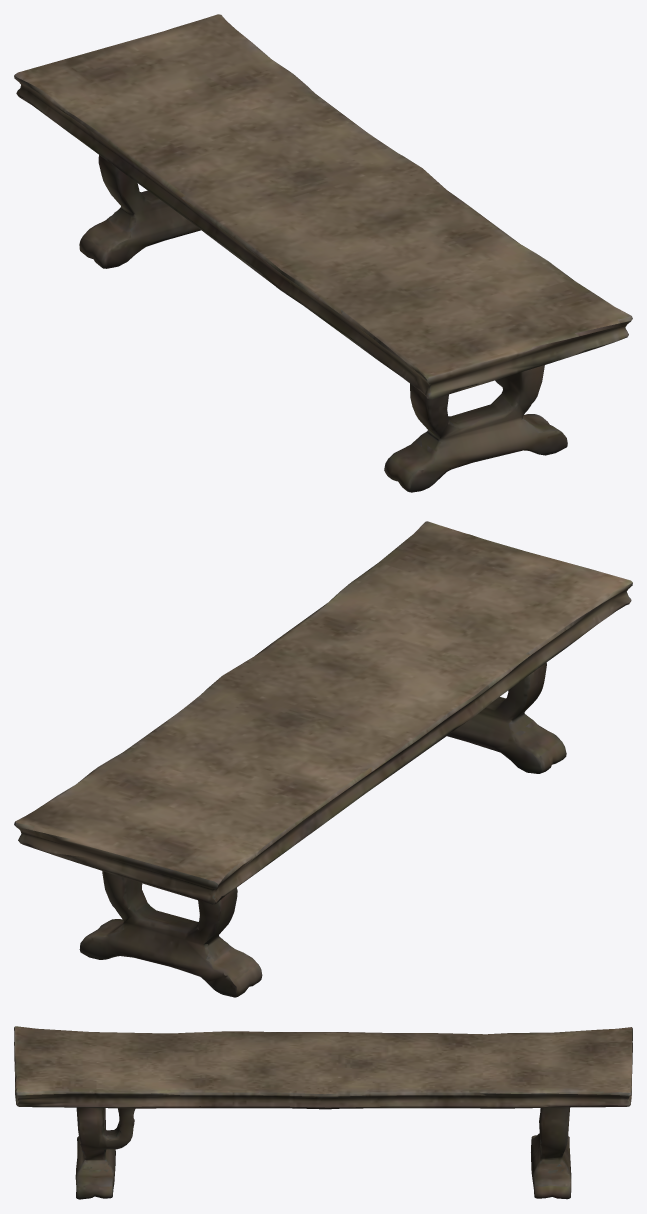
File: ornate-wood-banquet-table-v003.glb
3 renders of one model, top to bottom at view 1: azimuth 30°, elevation 25°; view 2: azimuth 150°, elevation 25°; view 3: azimuth 270°, elevation 25°, orthographic. The views are drawn at different scales.
Parts seen in each view (by area): view 1: ornate-wood-banquet-table; view 2: ornate-wood-banquet-table; view 3: ornate-wood-banquet-table.
Boxes of the visible parts, left/top/right/bottom form: ornate-wood-banquet-table: left=14, top=14, right=632, bottom=492; ornate-wood-banquet-table: left=14, top=521, right=632, bottom=997; ornate-wood-banquet-table: left=14, top=1026, right=632, bottom=1199.
Bounding box in the file's own units: 1.01 × 0.7684 × 3.5.
Materials: 1 (1 with a texture image).
